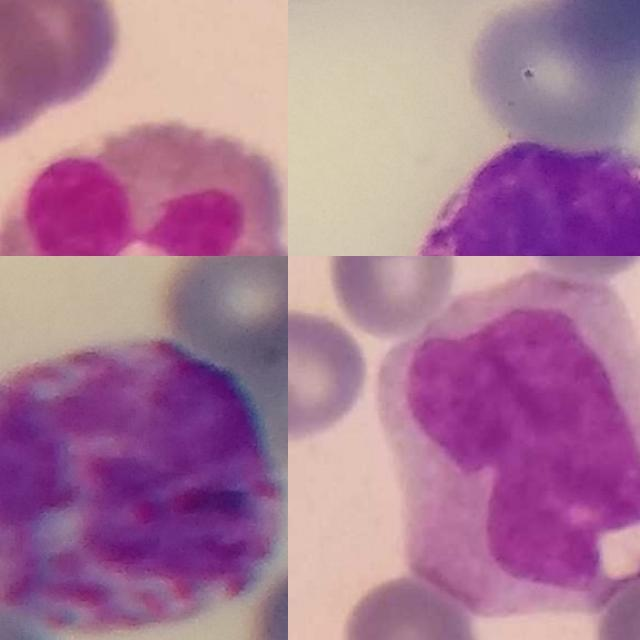Basophil: (0, 338, 288, 635), (401, 139, 640, 256)
Eosinophil: (0, 121, 288, 256)
Monocyte: (373, 270, 640, 616)
